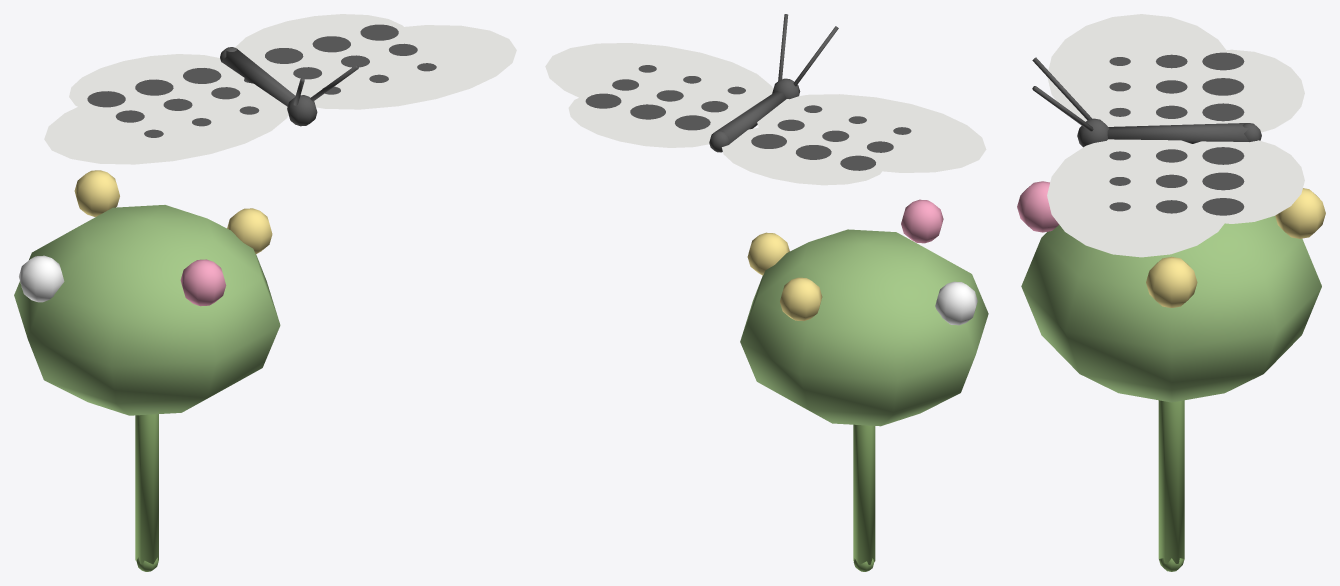
Rendered from large-tree-nymph.glb.
3 views of the same model, side by side, from view 1: azimuth 30°, elevation 25°; view 2: azimuth 150°, elevation 25°; view 3: azimuth 270°, elevation 25° (orthographic). The views are drawn at different scales.
Visible parts, largest first — view 1: e, wingdisc, wingdisc.011, e.007; view 2: e, wingdisc, wingdisc.011, e.007; view 3: e, wingdisc.011, wingdisc, e.007.
Boxes of the visible parts, <box> form: e: <box>14,170,280,571</box>; wingdisc: <box>44,54,288,164</box>; wingdisc.011: <box>235,14,516,109</box>; e.007: <box>220,47,358,126</box>; e: <box>740,199,988,571</box>; wingdisc: <box>722,94,986,185</box>; wingdisc.011: <box>545,43,773,147</box>; e.007: <box>709,14,838,152</box>; e: <box>1017,181,1325,571</box>; wingdisc.011: <box>1047,139,1304,257</box>; wingdisc: <box>1047,14,1304,132</box>; e.007: <box>1032,57,1261,147</box>.
Size of the model in its own units: 1.38 by 1.44 by 0.7187.
